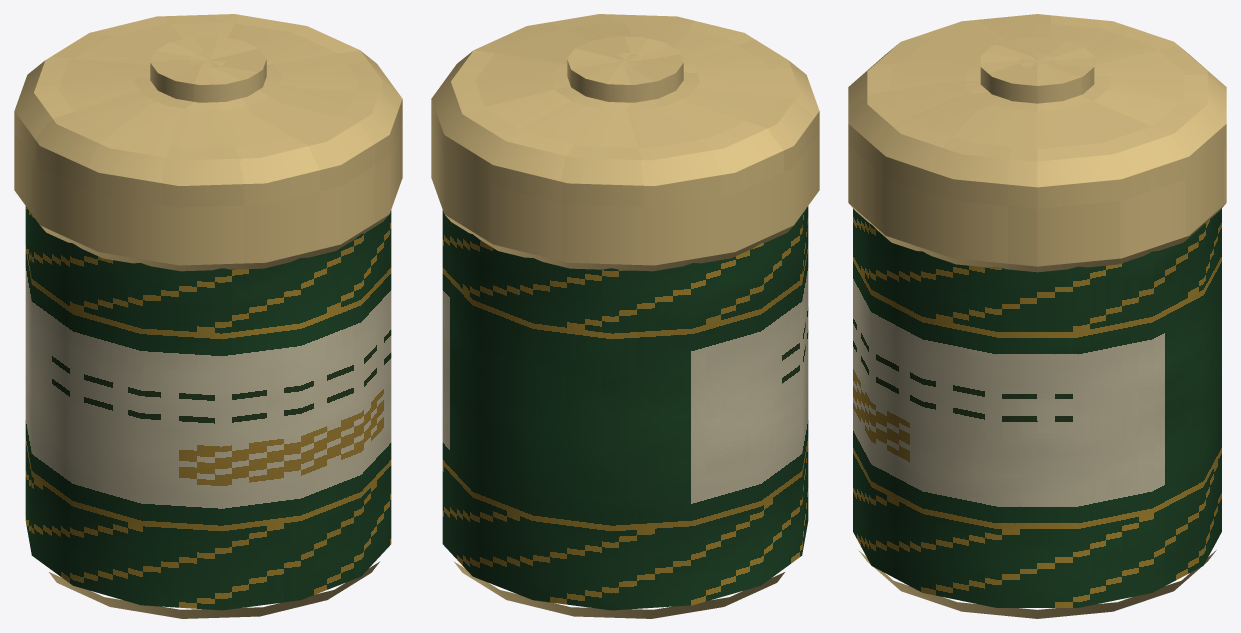
Rendered from item_tea_tin.glb.
3 views of the same model, side by side, from view 1: azimuth 30°, elevation 25°; view 2: azimuth 150°, elevation 25°; view 3: azimuth 270°, elevation 25° (orthographic).
Parts seen in each view (by area): view 1: tin; view 2: tin; view 3: tin.
Boxes of the visible parts, x1,y1,x2,y2 form: tin: [14, 14, 402, 618]; tin: [431, 14, 819, 618]; tin: [848, 14, 1226, 618].
Bounding box in the file's own units: 0.08 × 0.11 × 0.078.
Materials: 2 (2 with a texture image).
